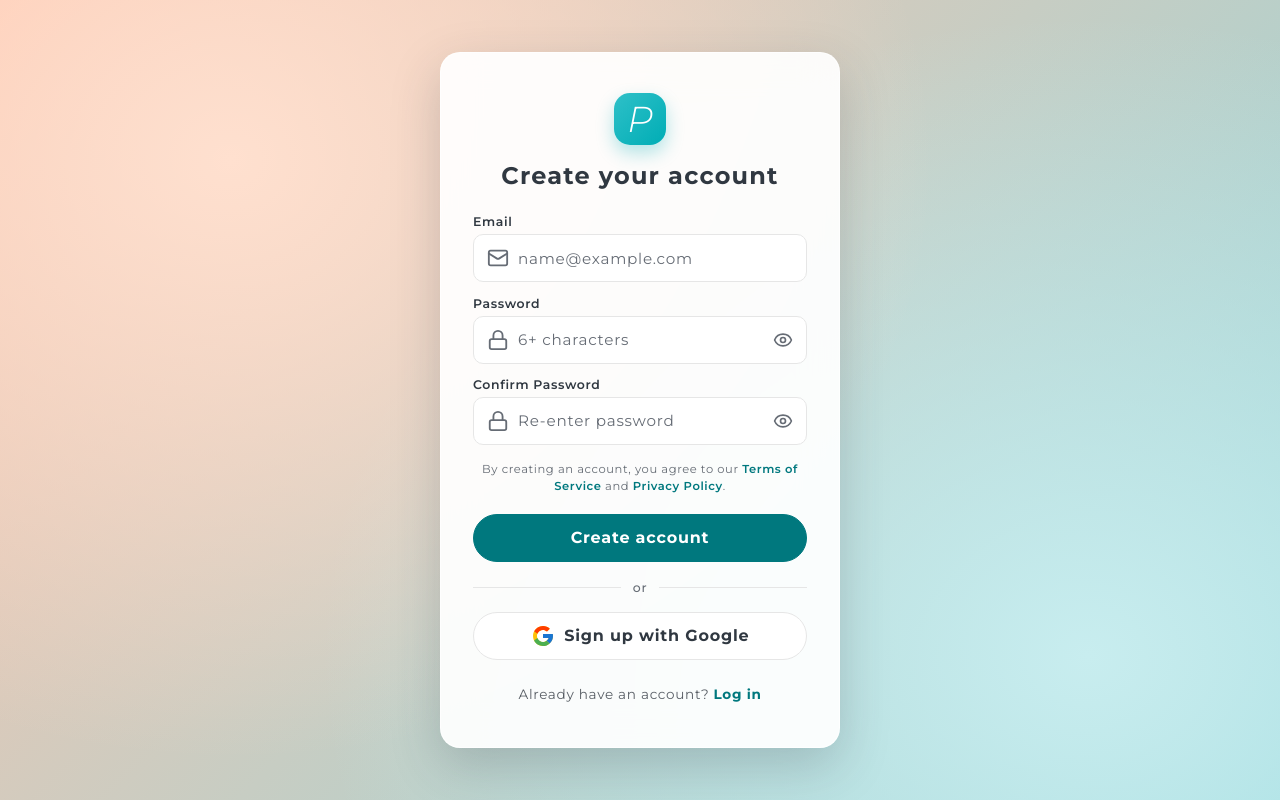
Test: Signup confirm-password validation › blocks submit and shows an error when the passwords do not match
This screenshot has width=1280, height=800.
Type "a@b.com" into the field labelled "Email".
click(640, 258); type("a@b.com")  # box top-left (473, 234), bottom-right (807, 282)
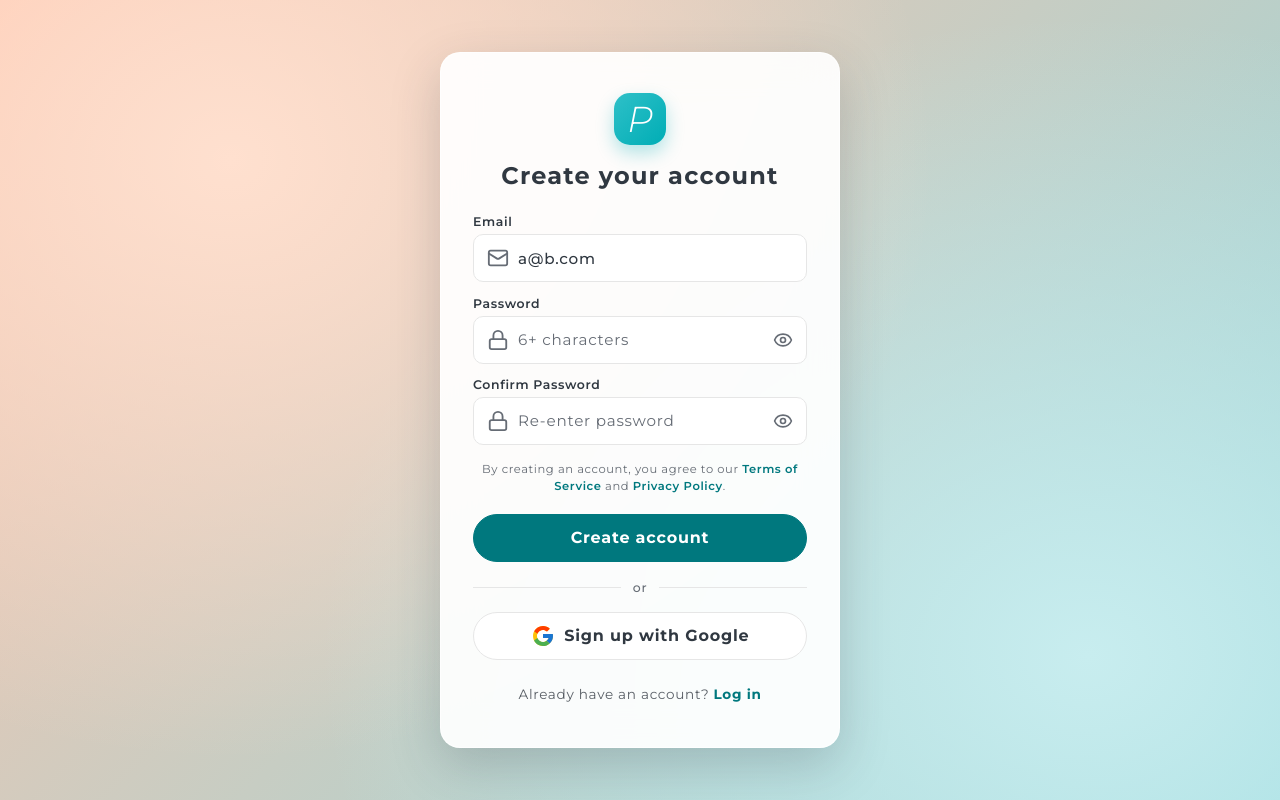
Type "abc123" into the password field labelled "Password".
click(640, 340); type("abc123")  # box top-left (473, 316), bottom-right (807, 364)
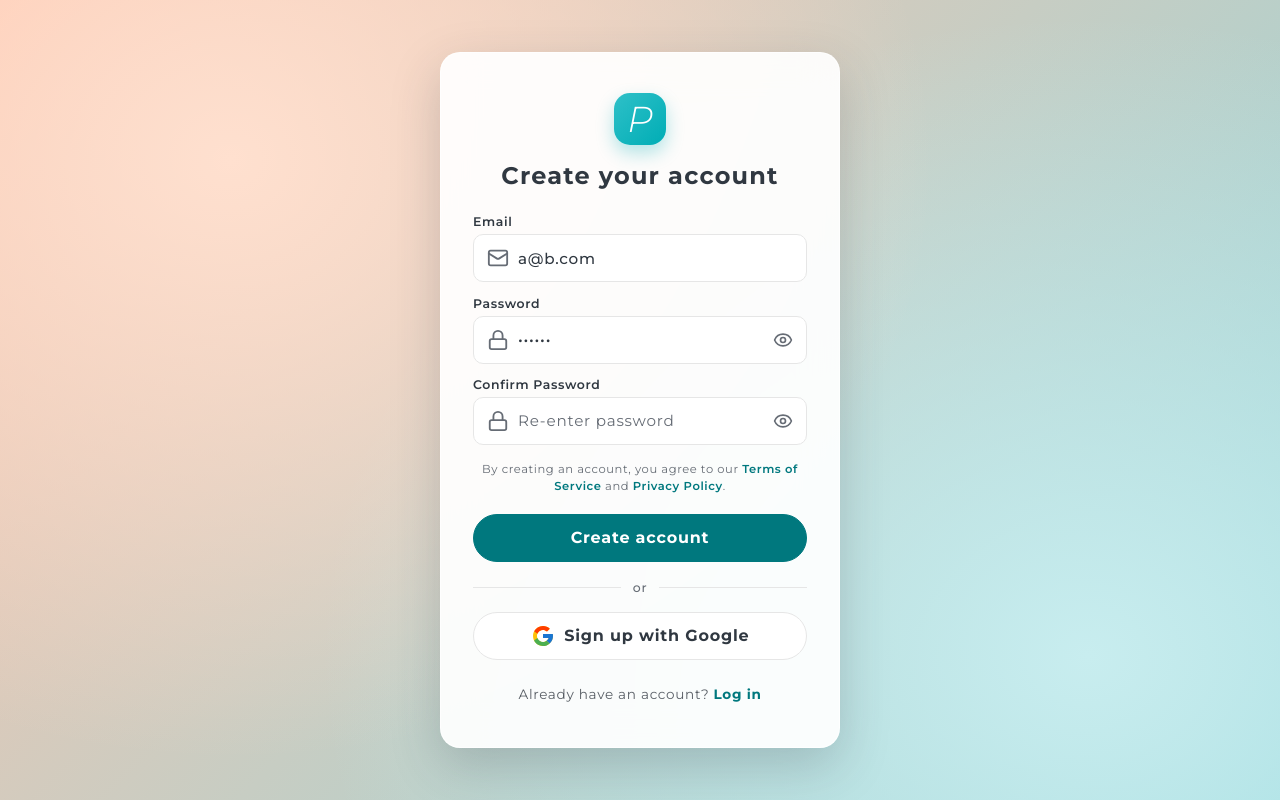
Type "xyz789" into the password field labelled "Confirm password".
click(640, 421); type("xyz789")  # box top-left (473, 397), bottom-right (807, 445)
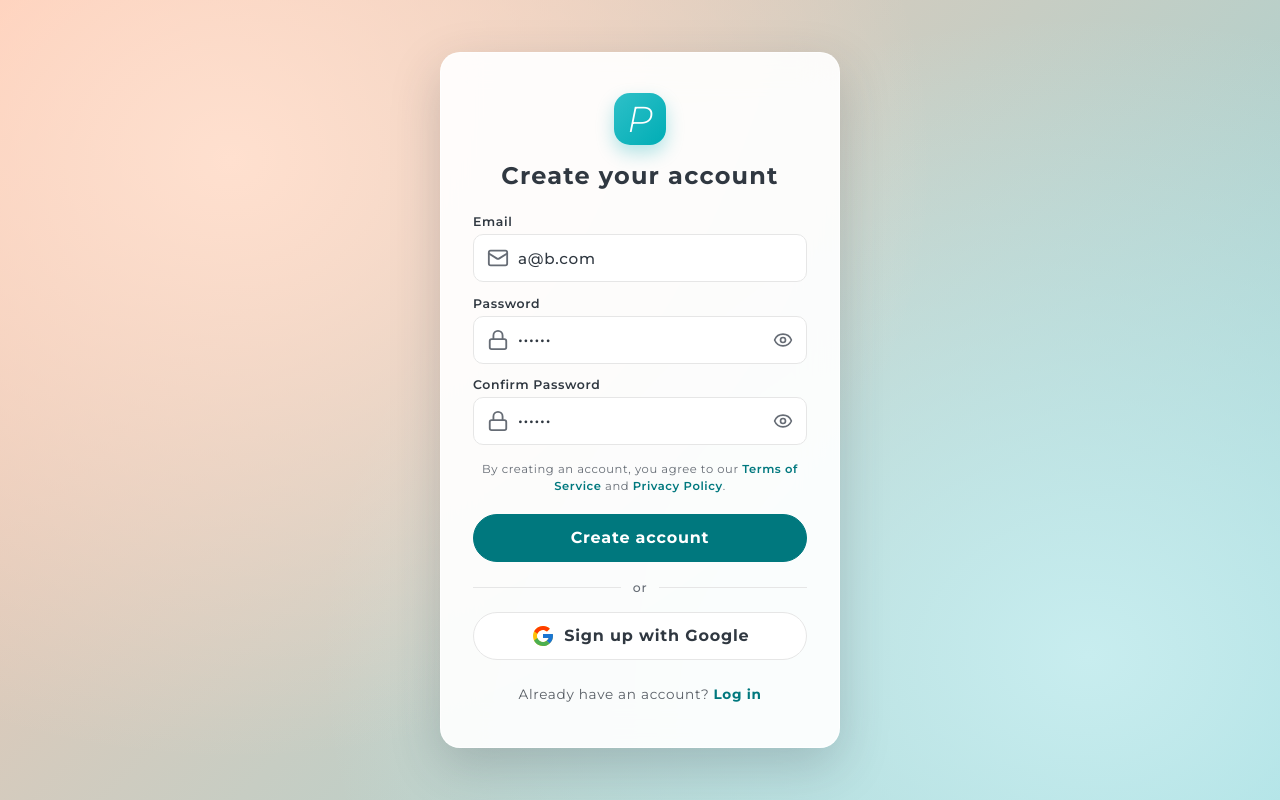
Click the button "Create account".
click(640, 538)  # box top-left (473, 514), bottom-right (807, 562)
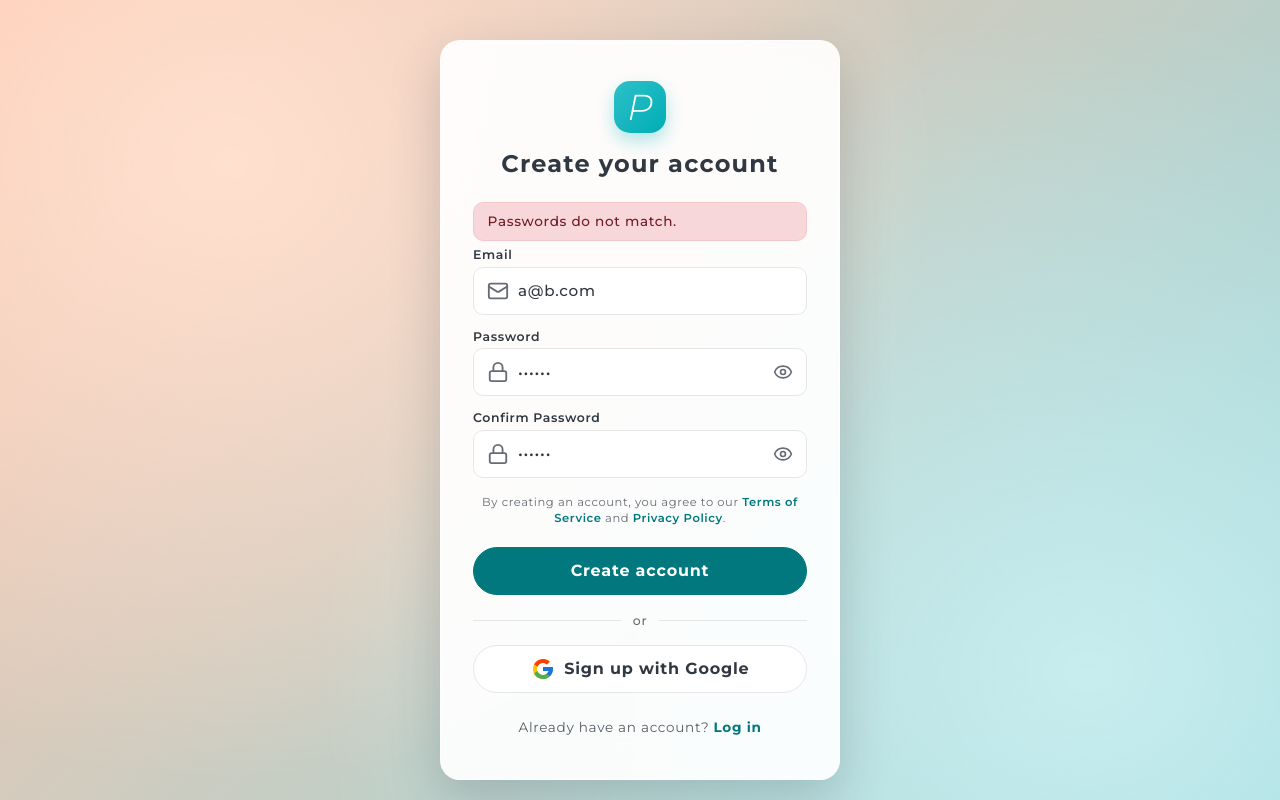
Now the text "Passwords do not match." is shown, box top-left (473, 202), bottom-right (807, 241)
